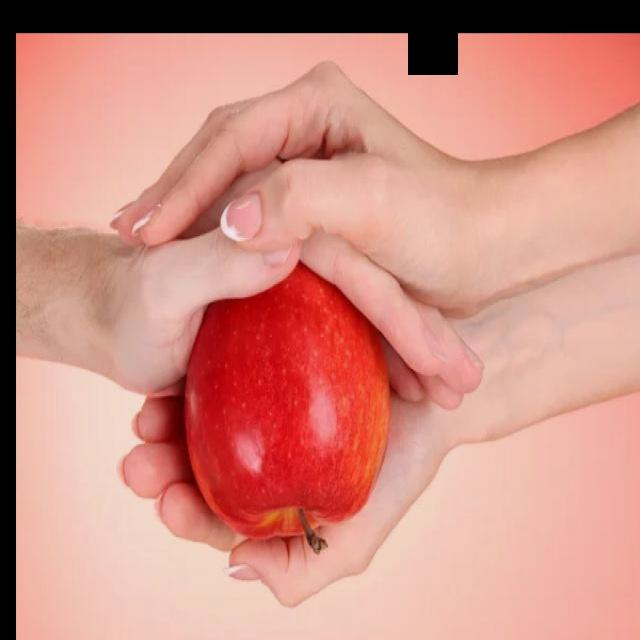red apple: (185, 259, 397, 540)
